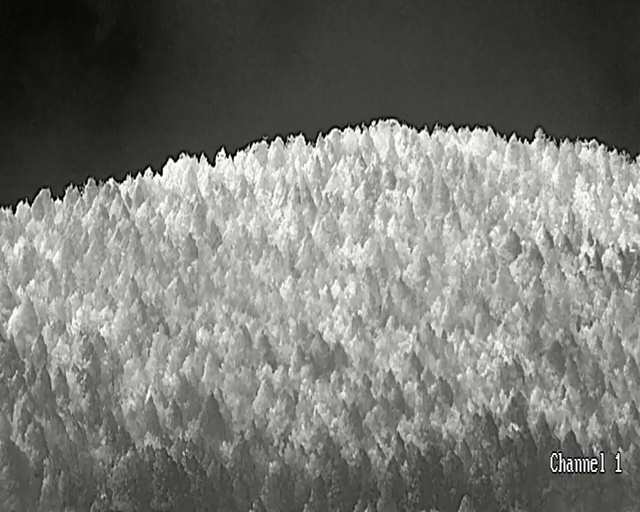uav: (261, 134, 268, 139)
